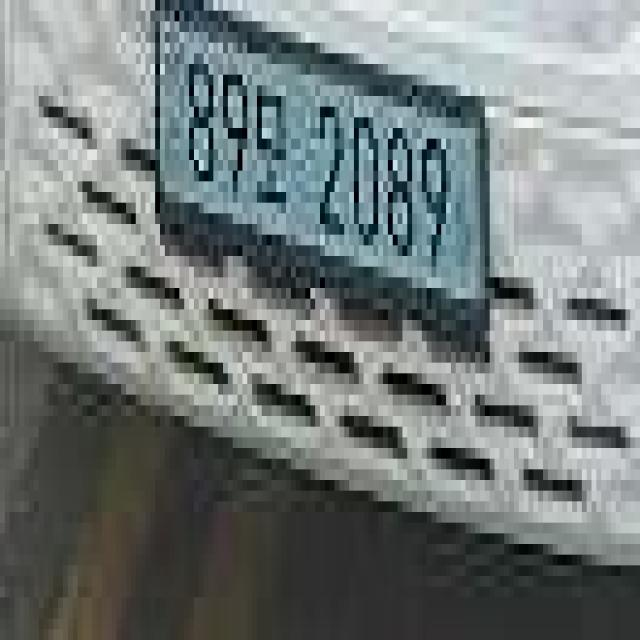EV_plate: (143, 6, 498, 350)
